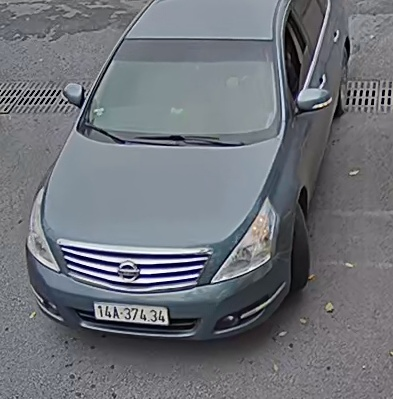vehicle plate: (89, 298, 171, 331)
